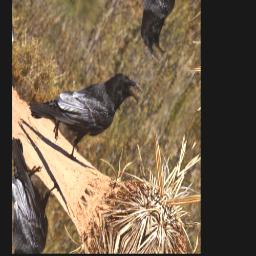Crow: (25, 14, 143, 186)
